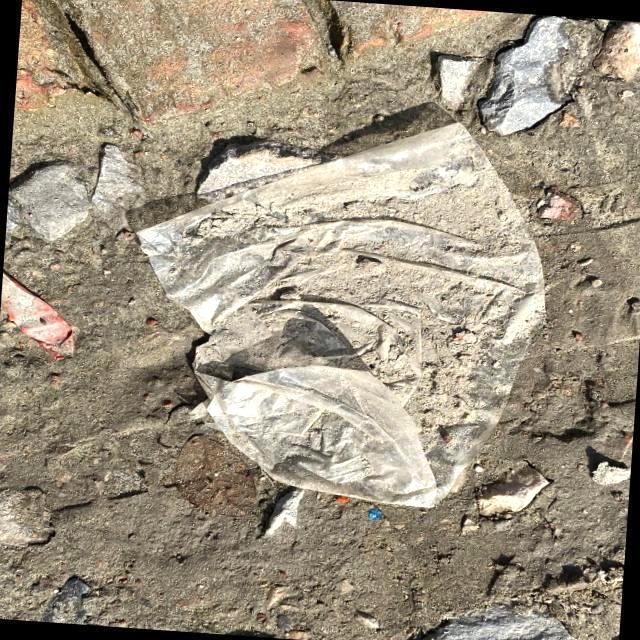polythene: (148, 117, 571, 528)
